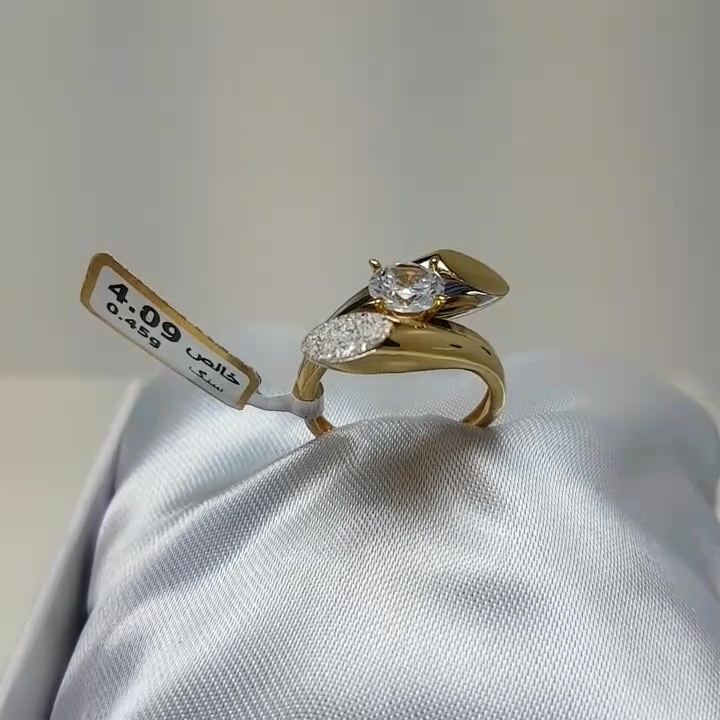Ring 7: (278, 236, 536, 447)
